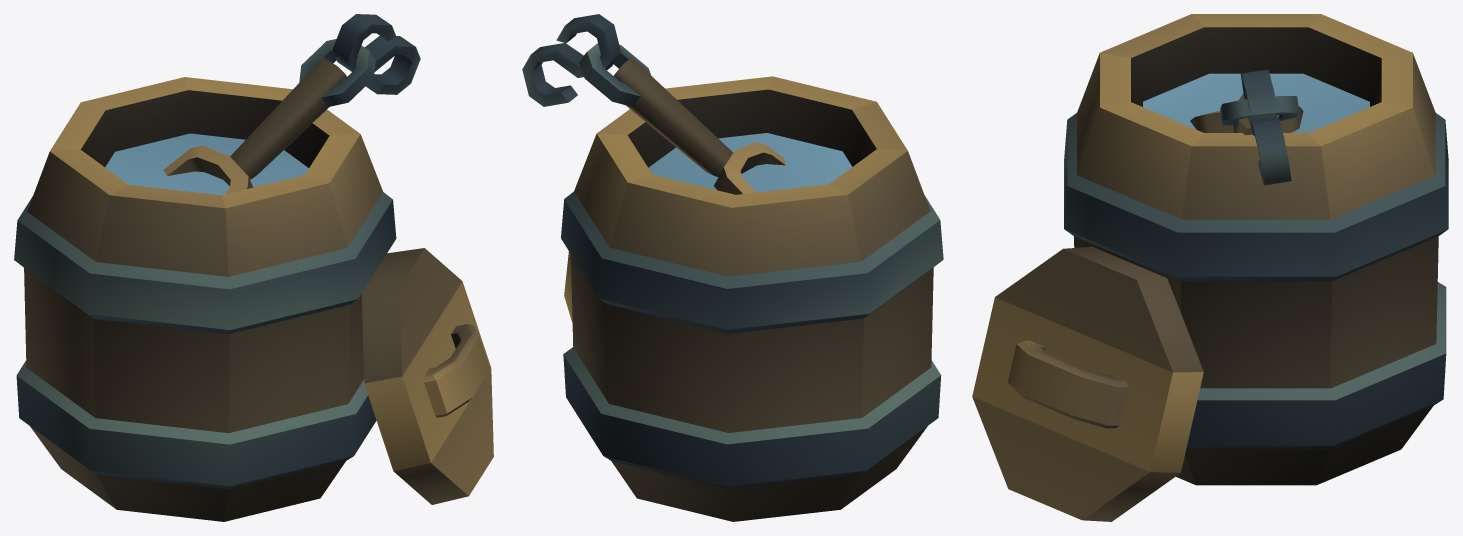
Rendered from barrel_water_open_laddle.fbx.
3 views of the same model, side by side, from view 1: azimuth 30°, elevation 25°; view 2: azimuth 150°, elevation 25°; view 3: azimuth 270°, elevation 25° (orthographic). The views are drawn at different scales.
Visible parts, largest first — view 1: barrel_water_open_laddle; view 2: barrel_water_open_laddle; view 3: barrel_water_open_laddle.
Part boxes in pixels (<box>): barrel_water_open_laddle: <box>14,14,493,521</box>; barrel_water_open_laddle: <box>522,14,943,521</box>; barrel_water_open_laddle: <box>972,14,1448,521</box>.
Bounding box in the file's own units: 118 × 117 × 115.
